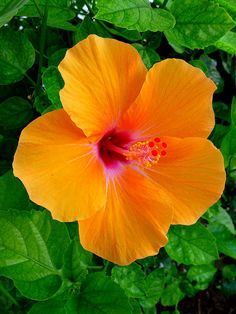Hibiscus: (10, 37, 221, 260)
